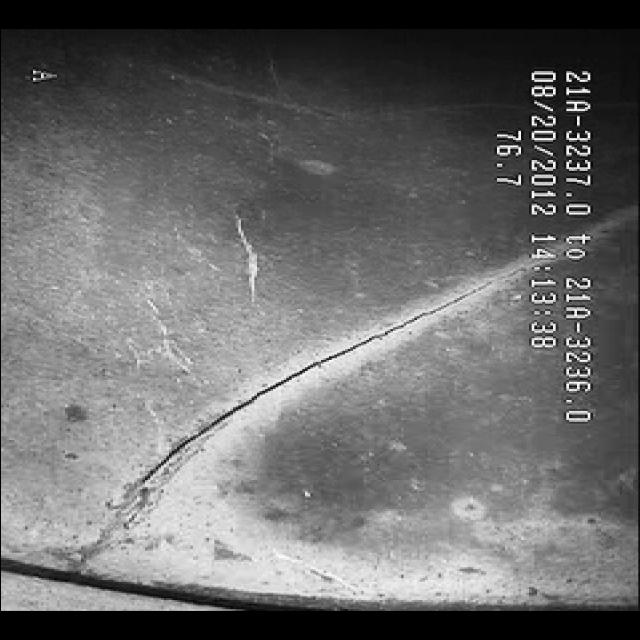Crack: (116, 296, 432, 509)
